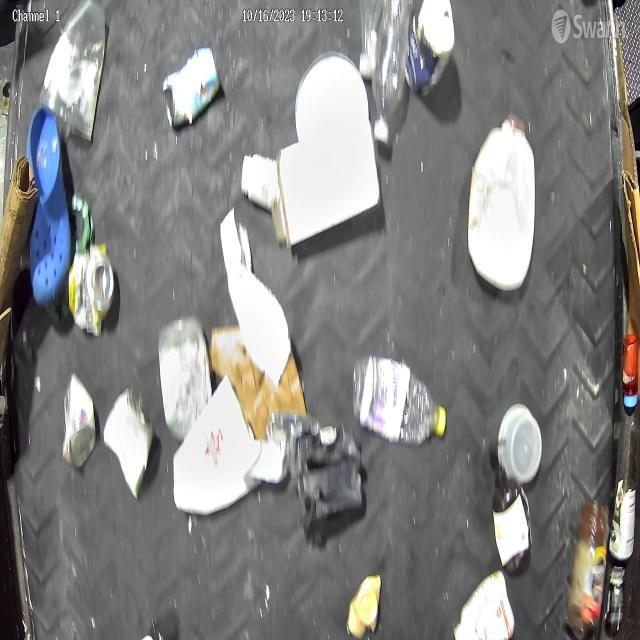can: (159, 314, 215, 442), (102, 384, 156, 496), (65, 237, 116, 339), (60, 372, 97, 469), (608, 477, 640, 562)
milk_jug: (465, 108, 538, 296)
plastic_bottle: (350, 352, 449, 450), (369, 0, 413, 148)
